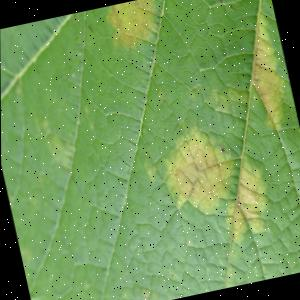Folha: (0, 0, 300, 300)
Fungo: (156, 116, 277, 252), (232, 7, 297, 137), (229, 160, 277, 236), (104, 0, 167, 55), (143, 159, 158, 184), (220, 146, 225, 154), (170, 272, 174, 278), (218, 0, 223, 4), (230, 5, 233, 9)
